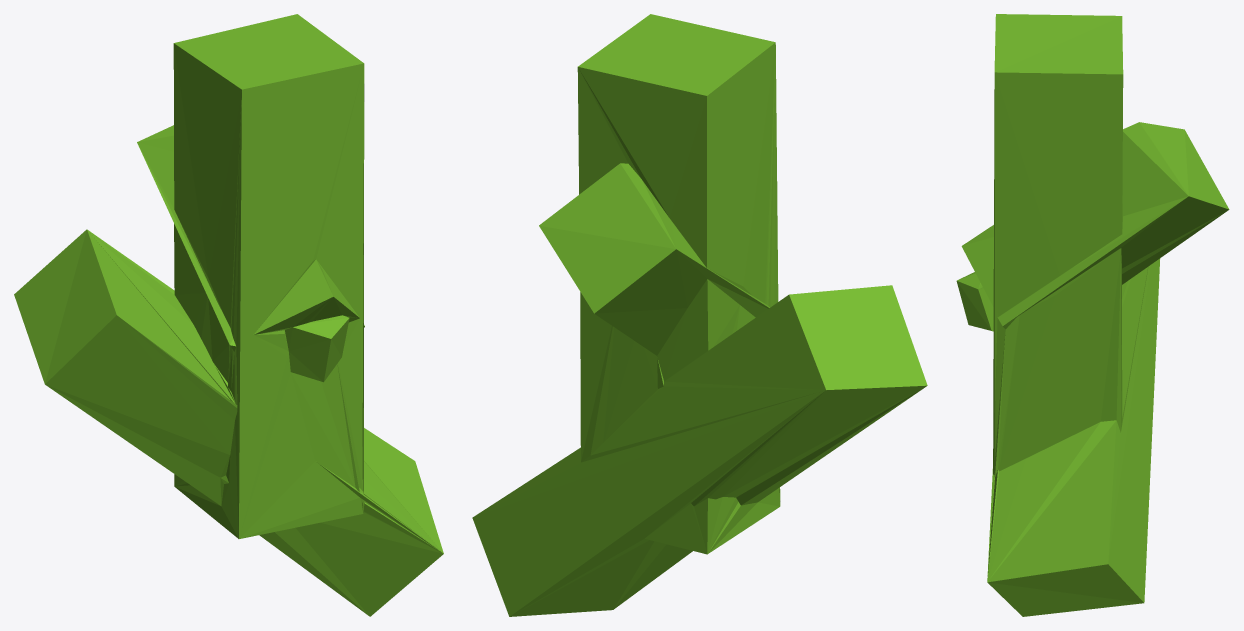
The picture shows the model from 3 angles, left to right: view 1: azimuth 30°, elevation 25°; view 2: azimuth 150°, elevation 25°; view 3: azimuth 270°, elevation 25°; orthographic projection. The views are drawn at different scales.
Visible parts, largest first — view 1: 565_Cube.2276; view 2: 565_Cube.2276; view 3: 565_Cube.2276.
Boxes of the visible parts, box(x1,y1,x2,y2) form: 565_Cube.2276: box(14, 14, 443, 616); 565_Cube.2276: box(472, 14, 927, 616); 565_Cube.2276: box(956, 14, 1229, 616).
Size of the model in its own units: 11.43 by 15.44 by 7.1.
